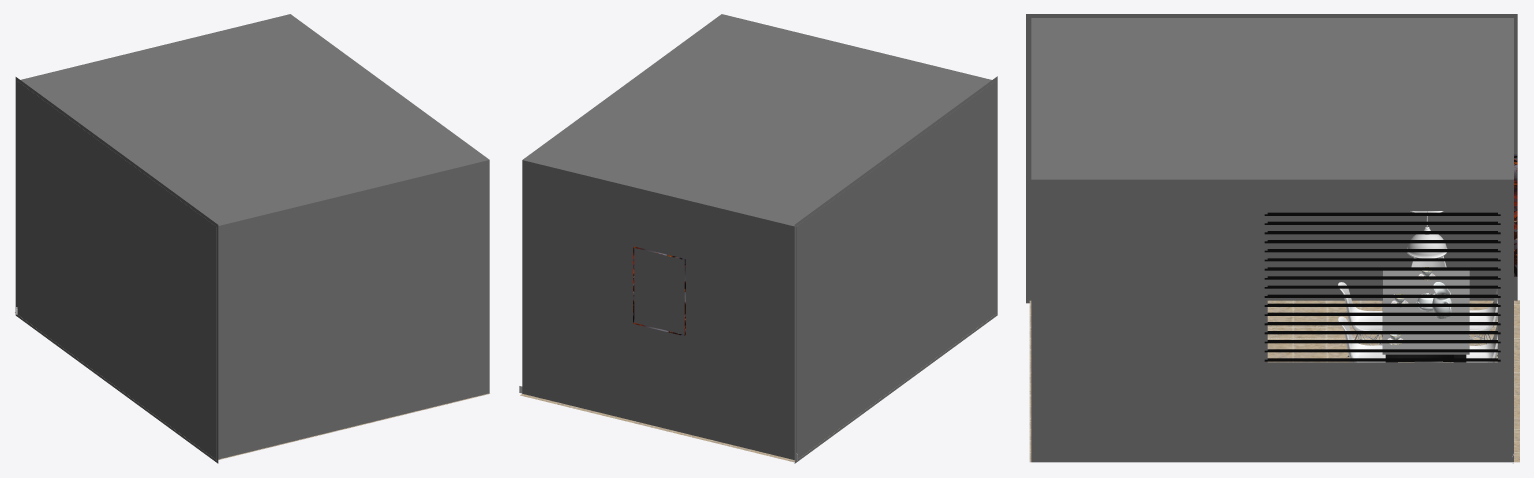
File: breakfast-room.glb
3 views of the same model, side by side, from view 1: azimuth 30°, elevation 25°; view 2: azimuth 150°, elevation 25°; view 3: azimuth 270°, elevation 25° (orthographic). The views are drawn at different scales.
Parts seen in each view (by area): view 1: Walls_0001, Walls_0002; view 2: Walls_0001, Walls_0002, FloorTiles, Artwork; view 3: Walls_0001, Walls_0002, None, FloorTiles, WhiteMarble, WhitePlastic_0007, WhitePlastic_0006, FrostedGlass_0001.
Part boxes in pixels (x1,y1,x2,y2): Walls_0001: (21,14,489,459); Walls_0002: (15,77,218,463); Walls_0001: (522,14,991,460); Walls_0002: (794,76,997,463); FloorTiles: (520,317,991,462); Artwork: (633,246,685,335); Walls_0001: (1031,18,1513,462); Walls_0002: (1026,14,1517,303); None: (1264,212,1500,361); FloorTiles: (1029,300,1519,462); WhiteMarble: (1382,270,1469,354); WhitePlastic_0007: (1338,316,1385,362); WhitePlastic_0006: (1338,282,1382,330); FrostedGlass_0001: (1407,234,1446,257).
Size of the model in its own units: 11.62 by 9.55 by 14.76.
Materials: 4 (4 with a texture image).
